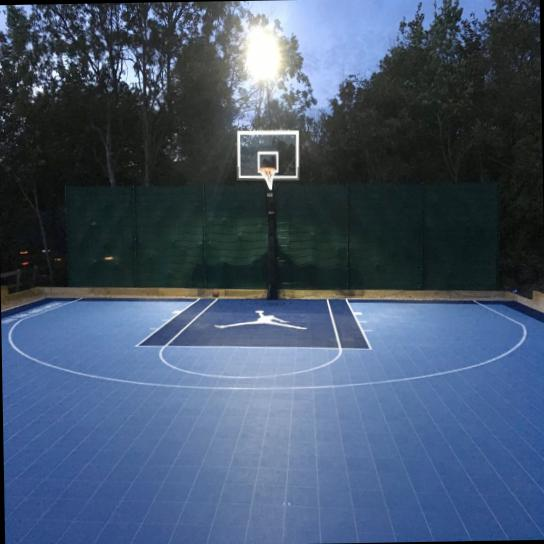basketball-hoop: (256, 164, 278, 190)
